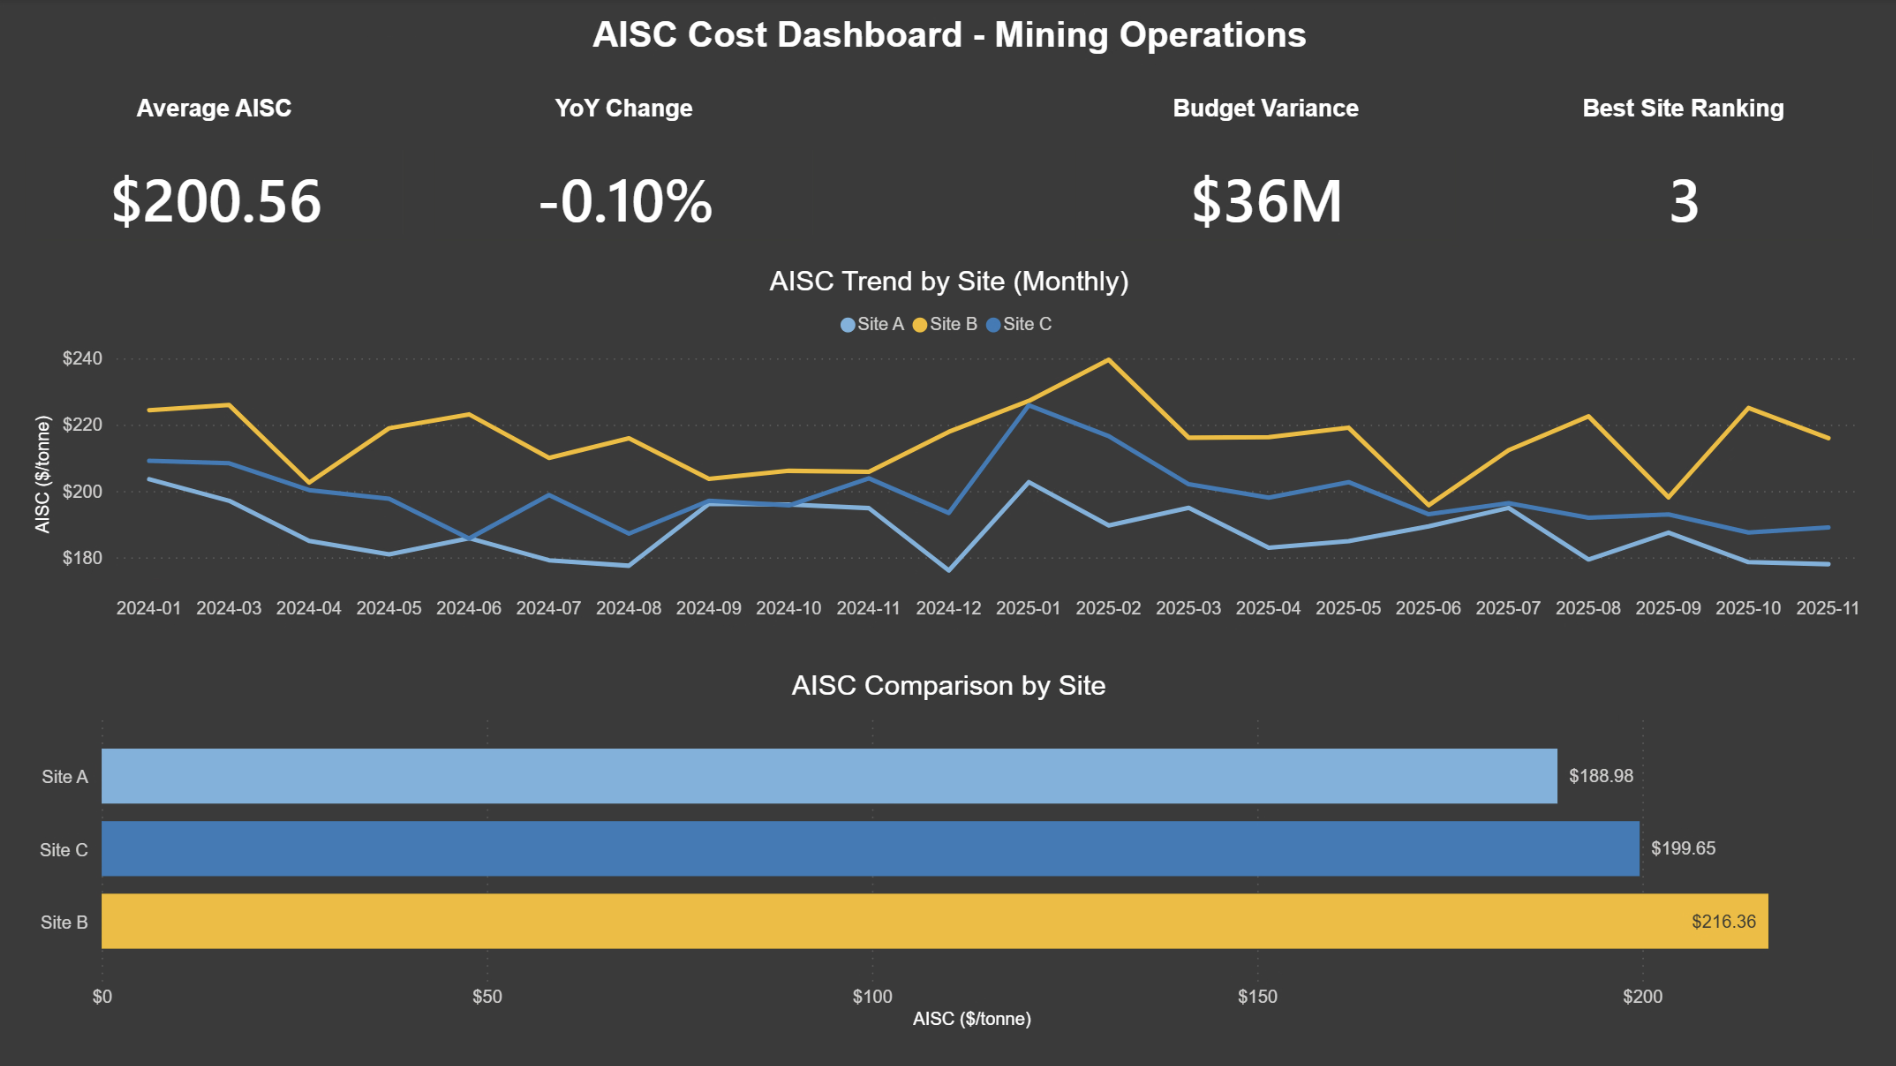

The dashboard page shown, as its layout file describes it:
{"tool":"powerbi","page":{"name":"Cost Overview","canvas":[1280,720],"ordinal":0},"visuals":[{"type":"cardVisual","title":"Average AISC","fields":{"Data":["FactCosts.AISC per Tonne"]},"box":[0,65,290,115],"z":0},{"type":"cardVisual","title":"YoY Change","fields":{"Data":["FactCosts.AISC YoY %"]},"box":[276.2,65,290,115],"z":1000},{"type":"cardVisual","title":"Budget Variance","fields":{"Data":["FactCosts.Budget Variance"]},"box":[707.5,65,291.2,115],"z":2000},{"type":"cardVisual","title":"Best Site Ranking","fields":{"Data":["FactCosts.Cost Ranking"]},"box":[990,65,290,115],"z":3000},{"type":"lineChart","title":"AISC Trend by Site (Monthly)","fields":{"Y":["FactCosts.AISC per Tonne"],"Series":["DimSite.SiteName"],"Category":["DimDate.YearMonth"]},"box":[19,179.6,1241.9,247.4],"z":4000},{"type":"clusteredBarChart","title":"AISC Comparison by Site","fields":{"Category":["DimSite.SiteName"],"Y":["FactCosts.AISC per Tonne"]},"box":[19,452,1241.9,247.4],"z":5000},{"type":"textbox","box":[393.8,6.2,493.8,47.5],"z":6000}]}

Visuals, with their boxes in screenshot pixels (x1, y1, x2, y2), scaled from the page's 1280x720 canvas onto the 1896x1066 screenshot:
"Average AISC" cardVisual: bbox(0, 96, 430, 266)
"YoY Change" cardVisual: bbox(409, 96, 839, 266)
"Budget Variance" cardVisual: bbox(1048, 96, 1479, 266)
"Best Site Ranking" cardVisual: bbox(1466, 96, 1895, 266)
"AISC Trend by Site (Monthly)" lineChart: bbox(28, 266, 1868, 632)
"AISC Comparison by Site" clusteredBarChart: bbox(28, 669, 1868, 1036)
textbox: bbox(583, 9, 1315, 80)
